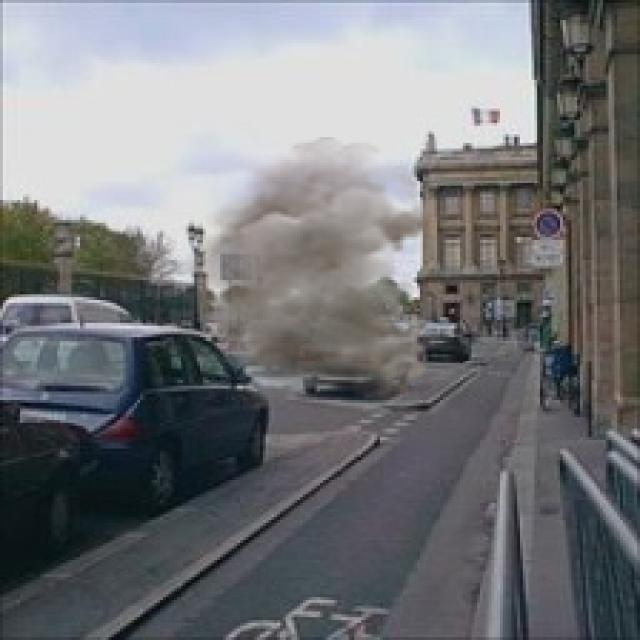Smoke: (174, 137, 440, 403)
